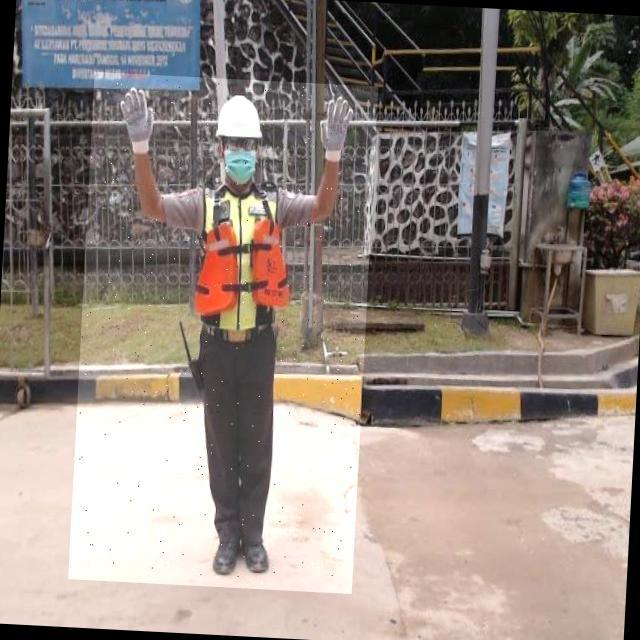Gloves: (313, 88, 360, 172), (117, 80, 165, 162)
Helmet: (214, 94, 264, 146)
Person: (104, 74, 375, 593)
Safety Boot: (212, 530, 242, 581), (243, 532, 273, 582)
Safety Vest: (195, 189, 297, 334)
